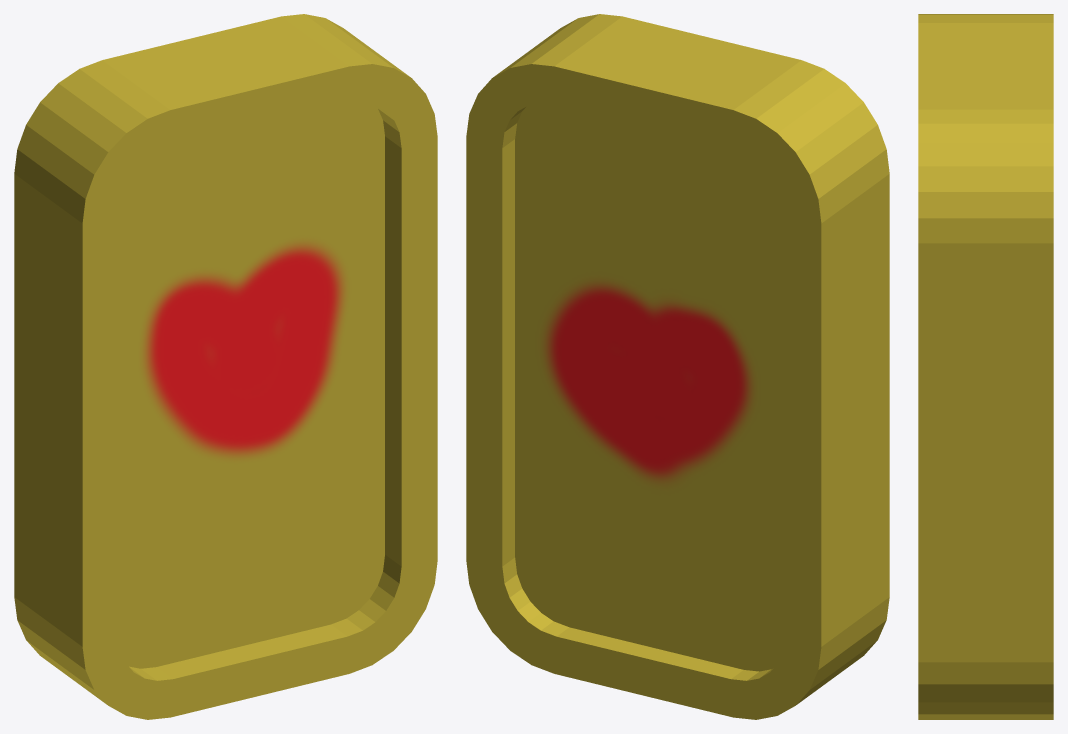
The model's file is domino.glb.
3 renders of one model, left to right at view 1: azimuth 30°, elevation 25°; view 2: azimuth 150°, elevation 25°; view 3: azimuth 270°, elevation 25°, orthographic.
Parts seen in each view (by area): view 1: Cube; view 2: Cube; view 3: Cube.
Part boxes in pixels (box(x1,y1,x2,y2)): Cube: box(14, 14, 437, 719); Cube: box(466, 14, 889, 719); Cube: box(918, 14, 1053, 719).
Size of the model in its own units: 0.5993 by 0.9795 by 0.1996.
1 material, 1 textured.
